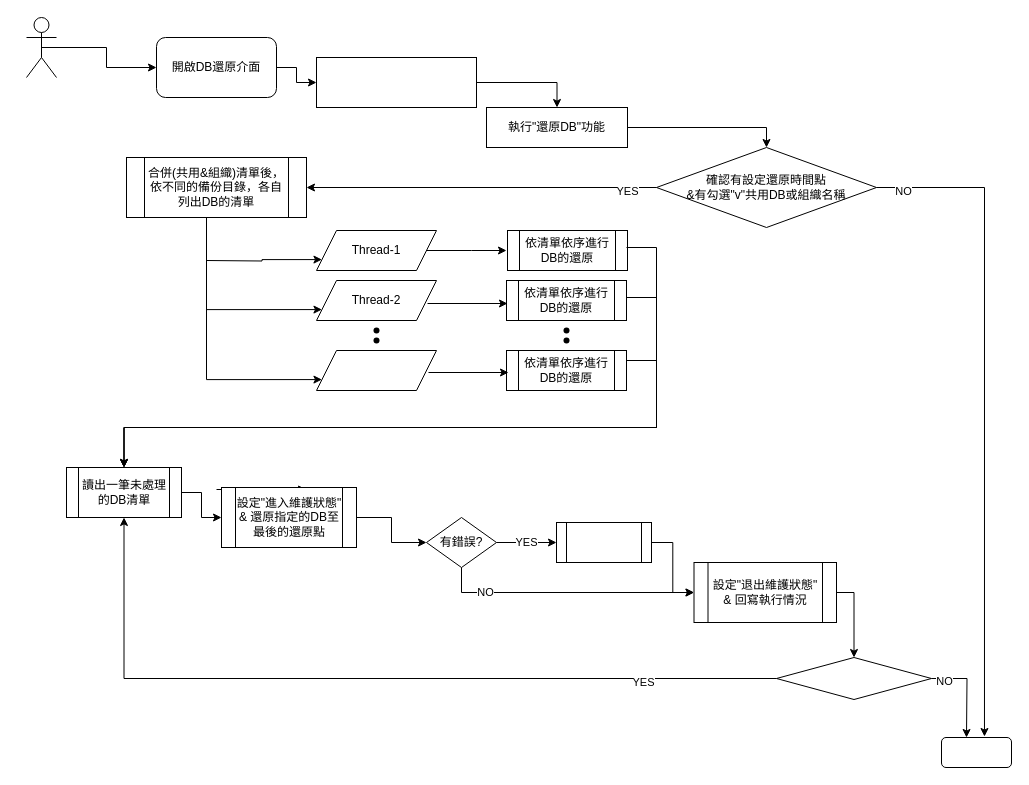
Image size: 1029x785. Some labels were removed from this diagram. The shapes that lost their labels are listed below. From the top down, each one's centre as x and y in pixels, then its label:
(41,47): 維護人員
(396,82): 設定還原的時間點 & 勾選"v"共用DB或組織名稱
(376,370): Thread-n
(604,542): WriteLOG
(854,678): 還有未處理的DB清單
(976,752): END
